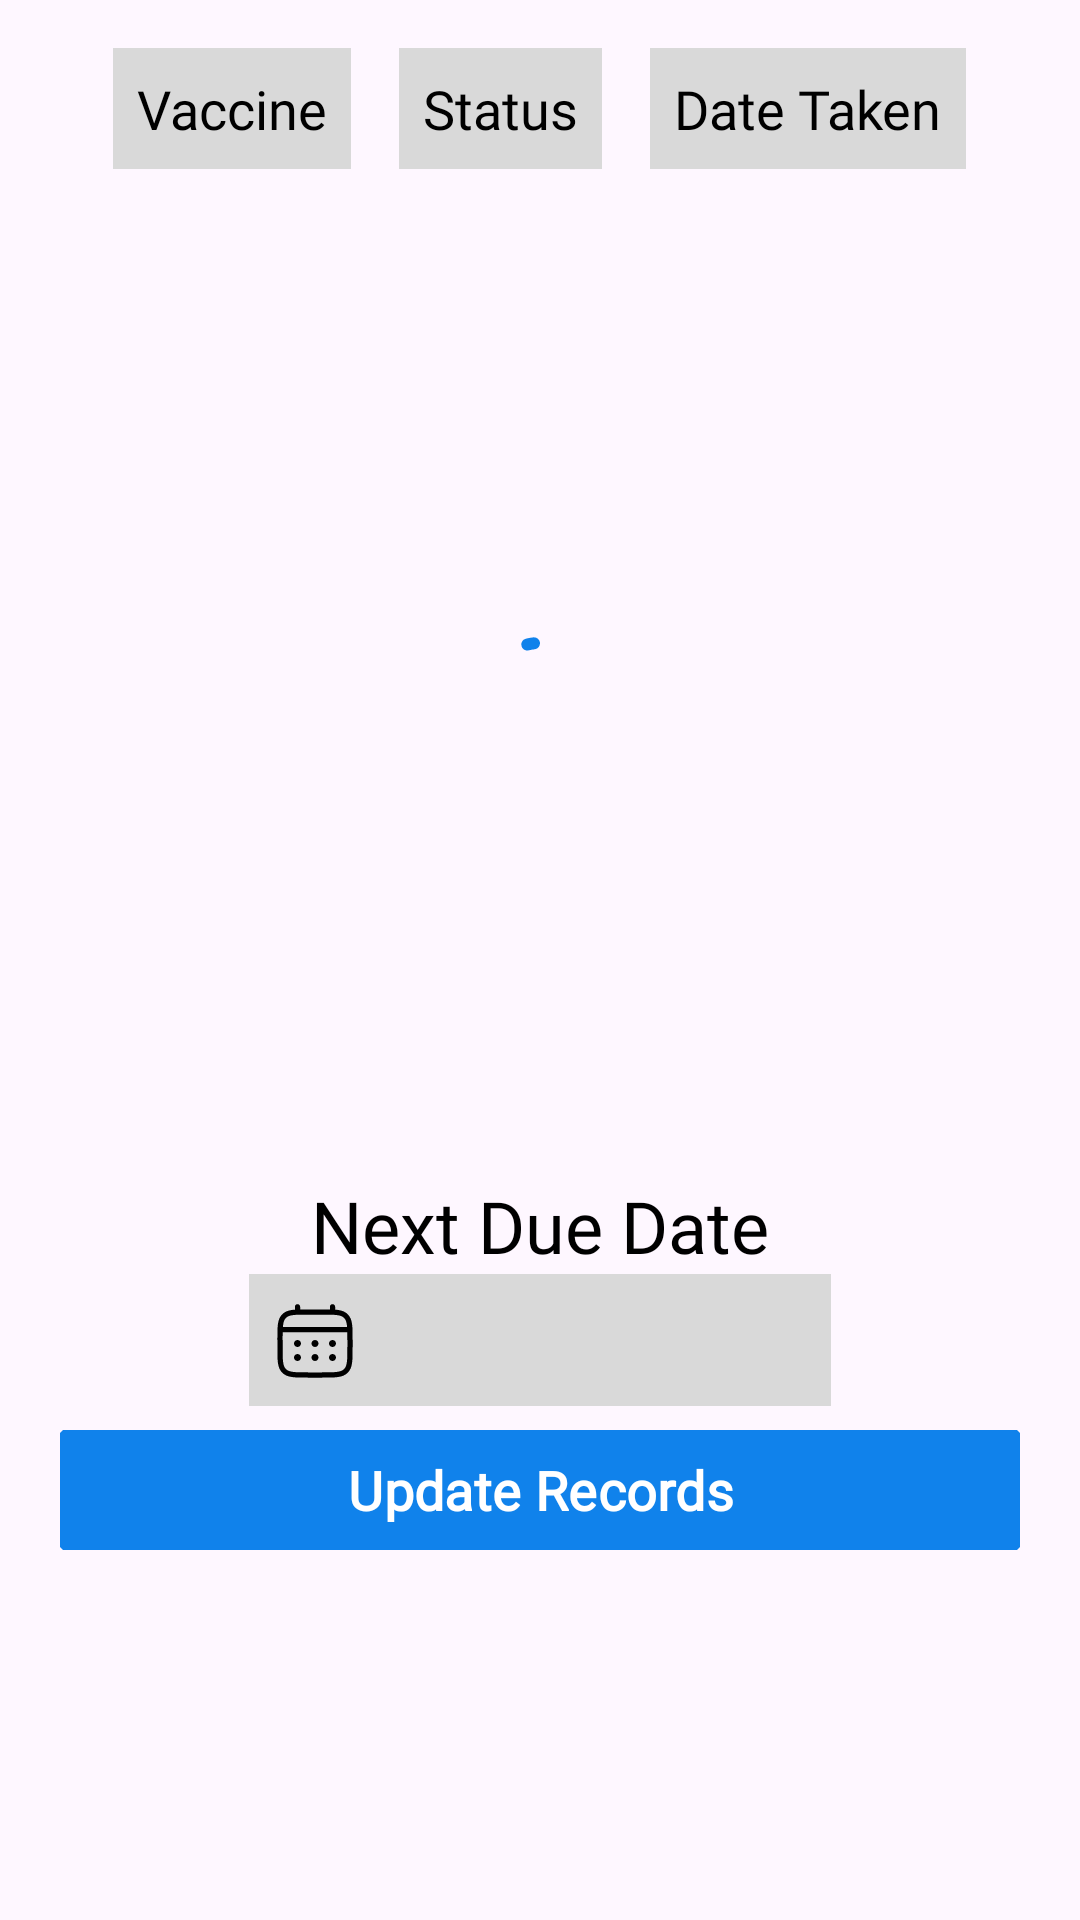

Named icons in this screenshot (1080x1920) and their bounding boxes, region(x1, y1, x2, y2):
calendar: region(249, 1274, 381, 1406)
